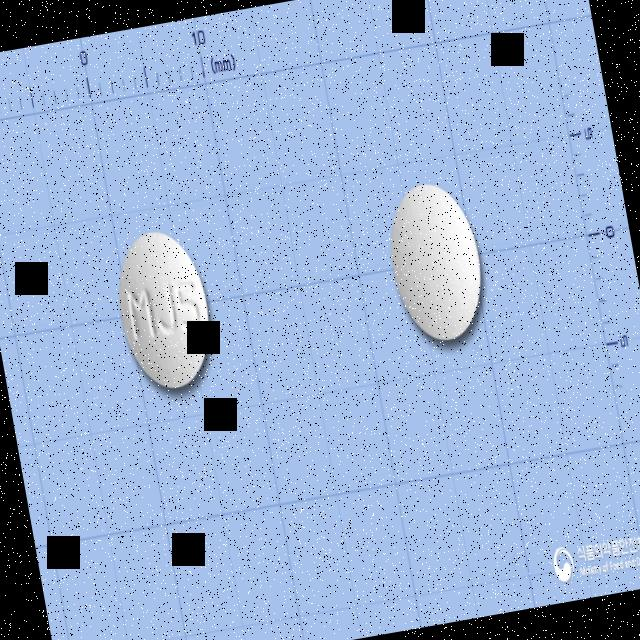Levofcin: (108, 223, 222, 397)
